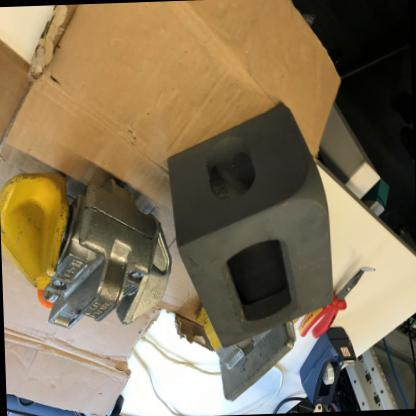CornerCasting: (167, 96, 337, 346)
Twistlock: (0, 171, 170, 344), (196, 302, 297, 408)
